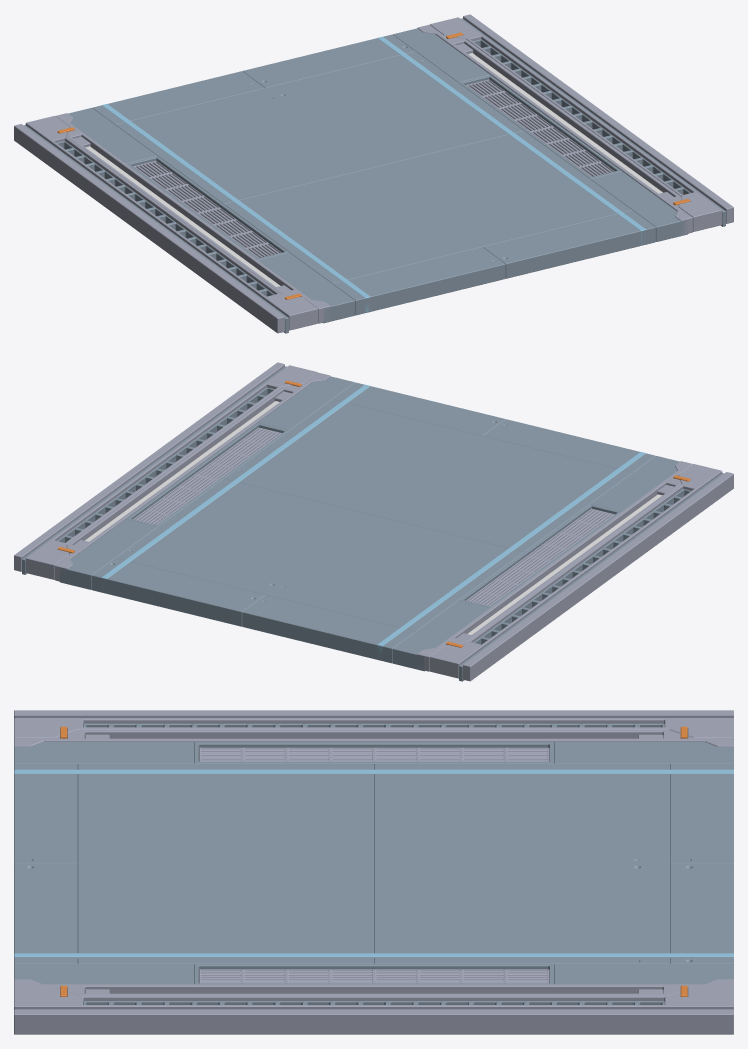
The model's file is MC_EX_Test_Floor_Platte_01.fbx.
3 views of the same model, one above another, from view 1: azimuth 30°, elevation 25°; view 2: azimuth 150°, elevation 25°; view 3: azimuth 270°, elevation 25° (orthographic). The views are drawn at different scales.
Parts seen in each view (by area): view 1: Plane.011; view 2: Plane.011; view 3: Plane.011.
Part boxes in pixels (<box>): Plane.011: <box>14,14,733,333</box>; Plane.011: <box>14,362,733,681</box>; Plane.011: <box>14,710,733,1034</box>.
Bounding box in the file's own units: 500 × 21.87 × 500.
